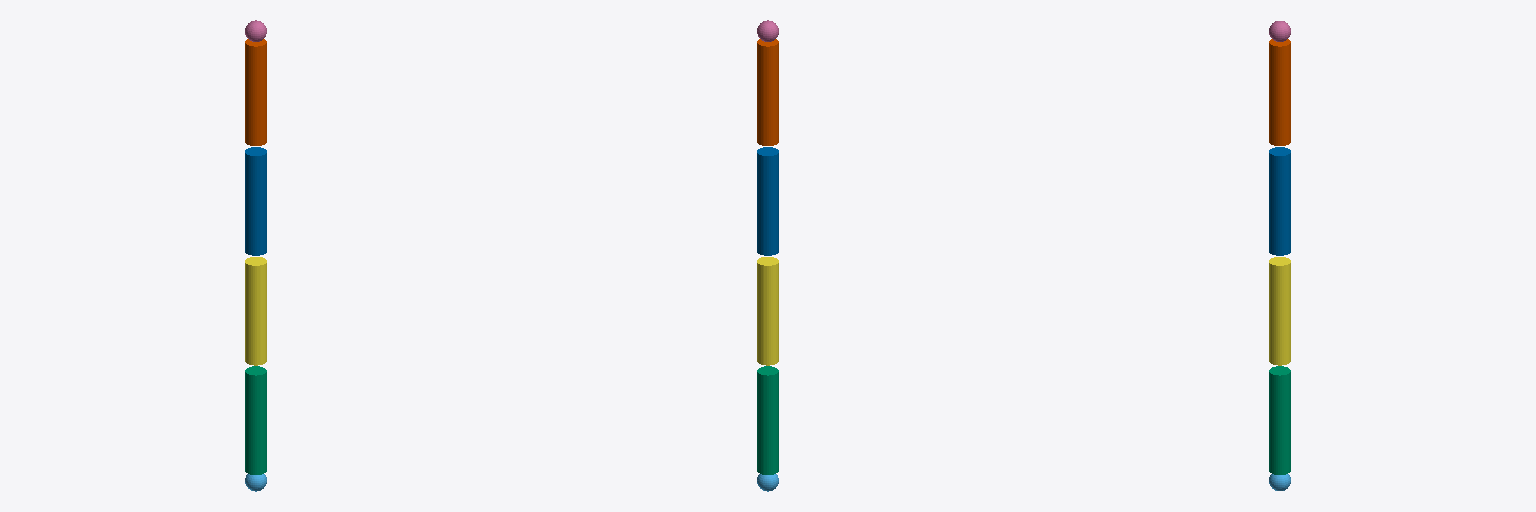
The robot description file, URDF, robot "panda_description":
<?xml version="1.0" encoding="utf-8"?>
<!-- =================================================================================== -->
<!-- |    This document was autogenerated by xacro from panda.urdf.xacro               | -->
<!-- |    EDITING THIS FILE BY HAND IS NOT RECOMMENDED                                 | -->
<!-- =================================================================================== -->
<robot name="panda_description">
  <link name="world"/>
  <joint name="robot_to_world" type="fixed">
    <parent link="world"/>
    <child link="panda_link0"/>
    <origin rpy="0.0 0.0 0.0" xyz="0.0 0.0 0.1"/>
  </joint>
  <!-- end for simulation -->
  <link name="panda_link0">
    <visual>
      <geometry>
        <sphere radius="0.1"/>
      </geometry>
    </visual>
    <collision>
      <geometry>
        <sphere radius="0.1"/>
      </geometry>
    </collision>
    <!-- for simulation -->
    <inertial>
      <origin rpy="0 0 0" xyz="0 0 0.05"/>
      <mass value="1.00"/>
      <inertia ixx="0.25083" ixy="0.0" ixz="0.0" iyy="0.25083" iyz="0.0" izz="0.5"/>
    </inertial>
    <!-- end for simulation -->
  </link>
  <link name="panda_link1">
    <visual>
      <origin xyz="0 0 0.6" rpy="0 0 0"/>
      <geometry>
        <cylinder length="1.0" radius="0.1"/>
      </geometry>
    </visual>
    <collision>
      <origin xyz="0 0 0.6" rpy="0 0 0"/>
      <geometry>
        <cylinder length="1.0" radius="0.1"/>
      </geometry>
    </collision>
    <!-- for simulation -->
    <inertial>
      <origin rpy="0 0 0" xyz="0 0 0.5"/>
      <mass value="1.0"/>
      <inertia ixx="0.0858" ixy="0.0" ixz="0.0" iyy="0.0858" iyz="0.0" izz="0.005"/>
    </inertial>
    <!-- end for simulation -->
  </link>
  <link name="panda_link2">
    <visual>
      <origin xyz="0 0 0.6" rpy="0 0 0"/>
      <geometry>
        <cylinder length="1.0" radius="0.1"/>
      </geometry>
    </visual>
    <collision>
      <origin xyz="0 0 0.6" rpy="0 0 0"/>
      <geometry>
        <cylinder length="1.0" radius="0.1"/>
      </geometry>
    </collision>
    <!-- for simulation -->
    <inertial>
      <origin rpy="0 0 0" xyz="0 0 0.5"/>
      <mass value="1.0"/>
      <inertia ixx="0.0858" ixy="0.0" ixz="0.0" iyy="0.0858" iyz="0.0" izz="0.005"/>
    </inertial>
    <!-- end for simulation -->
  </link>
  <link name="panda_link3">
    <visual>
      <origin xyz="0 0 0.6" rpy="0 0 0"/>
      <geometry>
        <cylinder length="1.0" radius="0.1"/>
      </geometry>
    </visual>
    <collision>
      <origin xyz="0 0 0.6" rpy="0 0 0"/>
      <geometry>
        <cylinder length="1.0" radius="0.1"/>
      </geometry>
    </collision>
    <!-- for simulation -->
    <inertial>
      <origin rpy="0 0 0" xyz="0 0 0.5"/>
      <mass value="1.0"/>
      <inertia ixx="0.0858" ixy="0.0" ixz="0.0" iyy="0.0858" iyz="0.0" izz="0.005"/>
    </inertial>
    <!-- end for simulation -->
  </link>
  <link name="panda_link4">
    <visual>
      <origin xyz="0 0 0.6" rpy="0 0 0"/>
      <geometry>
        <cylinder length="1.0" radius="0.1"/>
      </geometry>
    </visual>
    <collision>
      <origin xyz="0 0 0.6" rpy="0 0 0"/>
      <geometry>
        <cylinder length="1.0" radius="0.1"/>
      </geometry>
    </collision>
    <!-- for simulation -->
    <inertial>
      <origin rpy="0 0 0" xyz="0 0 0.5"/>
      <mass value="1.0"/>
      <inertia ixx="0.0858" ixy="0.0" ixz="0.0" iyy="0.0858" iyz="0.0" izz="0.005"/>
    </inertial>
    <!-- end for simulation -->
  </link>
  <joint name="panda_joint1" type="revolute">
    <safety_controller k_position="100.0" k_velocity="40.0" soft_lower_limit="-2.8973" soft_upper_limit="2.8973"/>
    <origin rpy="0 0 0" xyz="0 0 0.0"/>
    <parent link="panda_link0"/>
    <child link="panda_link1"/>
    <axis xyz="1 0 0"/>
    <limit effort="87" lower="-2.8973" upper="2.8973" velocity="2.1750"/>
    <!-- for simulation -->
    <dynamics damping="0.0" friction="0.0"/>
    <!-- end for simulation -->
  </joint>
  <joint name="panda_joint2" type="revolute">
    <safety_controller k_position="100.0" k_velocity="40.0" soft_lower_limit="-2.8973" soft_upper_limit="2.8973"/>
    <origin rpy="0 0 0" xyz="0 0 1.1"/>
    <parent link="panda_link1"/>
    <child link="panda_link2"/>
    <axis xyz="0 1 0"/>
    <limit effort="87" lower="-2.8973" upper="2.8973" velocity="2.1750"/>
    <!-- for simulation -->
    <dynamics damping="0.0" friction="0.0"/>
    <!-- end for simulation -->
  </joint>
  <joint name="panda_joint3" type="revolute">
    <safety_controller k_position="100.0" k_velocity="40.0" soft_lower_limit="-2.8973" soft_upper_limit="2.8973"/>
    <origin rpy="0 0 0" xyz="0 0 1.1"/>
    <parent link="panda_link2"/>
    <child link="panda_link3"/>
    <axis xyz="1 0 0"/>
    <limit effort="87" lower="-2.8973" upper="2.8973" velocity="2.1750"/>
    <!-- for simulation -->
    <dynamics damping="0.0" friction="0.0"/>
    <!-- end for simulation -->
  </joint>
  <joint name="panda_joint4" type="revolute">
    <safety_controller k_position="100.0" k_velocity="40.0" soft_lower_limit="-2.8973" soft_upper_limit="2.8973"/>
    <origin rpy="0 0 0" xyz="0 0 1.1"/>
    <parent link="panda_link3"/>
    <child link="panda_link4"/>
    <axis xyz="1 0 0"/>
    <limit effort="87" lower="-2.8973" upper="2.8973" velocity="2.1750"/>
    <!-- for simulation -->
    <dynamics damping="0.0" friction="0.0"/>
    <!-- end for simulation -->
  </joint>
  <link name="panda_link5">
    <visual>
      <origin xyz="0 0 0.005" rpy="0 0 0"/>
      <geometry>
        <sphere radius="0.1"/>
      </geometry>
    </visual>
    <collision>
      <geometry>
        <sphere radius="0.01"/>
      </geometry>
    </collision>
    <!-- for simulation -->
    <inertial>
      <origin rpy="0 0 0" xyz="0 0 0.005"/>
      <mass value="0.0001"/>
      <inertia ixx="0.00005" ixy="0.0" ixz="0.0" iyy="0.00005" iyz="0.0" izz="0.00005"/>
    </inertial>
    <!-- end for simulation -->
  </link>
  <joint name="panda_joint5" type="fixed">
    <origin rpy="0 0 0" xyz="0 0 1.2"/>
    <parent link="panda_link4"/>
    <child link="panda_link5"/>
    <axis xyz="0 0 1"/>
  </joint>
  <!-- end for simulation -->
</robot>

--- What the picture shows (computed from the rendered views, not written in the file) ---
The picture shows the robot from 3 angles, left to right: view 1: azimuth 30°, elevation 25°; view 2: azimuth 150°, elevation 25°; view 3: azimuth 270°, elevation 25°; orthographic projection.
Robot: panda_description — 7 links, 6 joints (4 revolute, 2 fixed); root link world; default pose: every joint at zero.
Links seen in each view (by area): view 1: panda_link3, panda_link1, panda_link2, panda_link4; view 2: panda_link3, panda_link1, panda_link2, panda_link4; view 3: panda_link3, panda_link1, panda_link2, panda_link4.
Link boxes in pixels (x1,y1,x2,y2): panda_link3: (245, 147, 266, 255); panda_link1: (245, 366, 266, 474); panda_link2: (245, 257, 266, 365); panda_link4: (245, 39, 266, 145); panda_link3: (757, 147, 778, 255); panda_link1: (757, 366, 778, 474); panda_link2: (757, 257, 778, 365); panda_link4: (757, 39, 778, 145); panda_link3: (1269, 147, 1290, 255); panda_link1: (1269, 366, 1290, 474); panda_link2: (1269, 257, 1290, 365); panda_link4: (1269, 39, 1290, 145).
Size in the robot's own frame: 0.2 by 0.2 by 4.71 metres.
Geometry: primitives only (box / cylinder / sphere), no mesh files.
